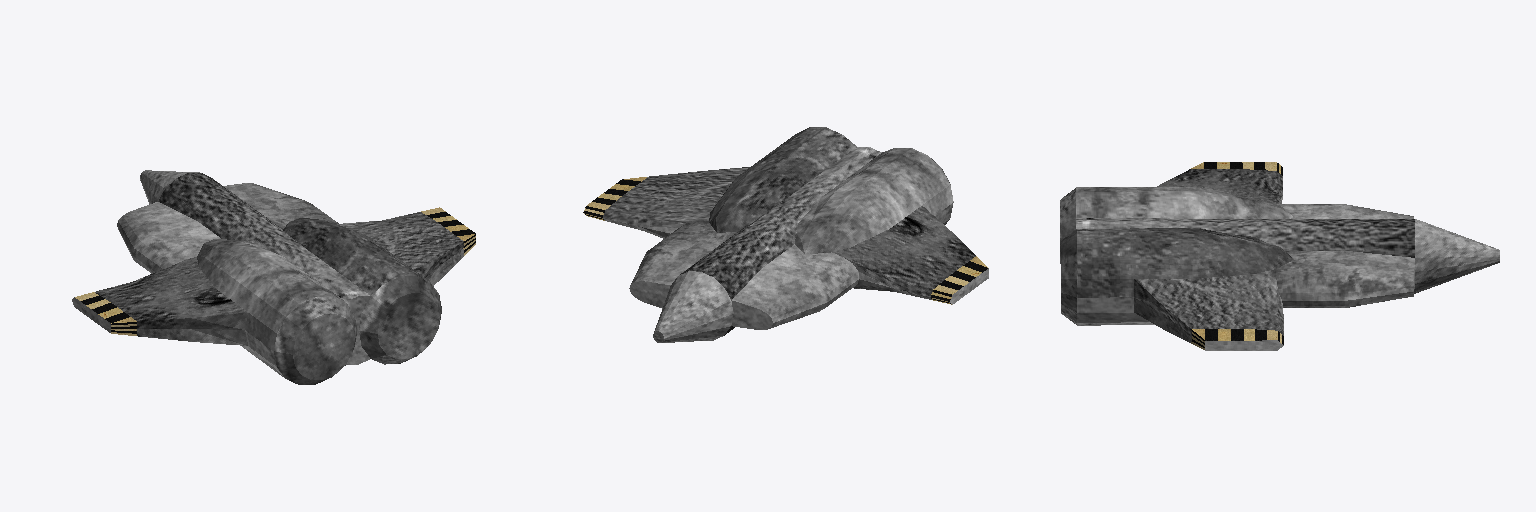
3 renders of one model, left to right at view 1: azimuth 30°, elevation 25°; view 2: azimuth 150°, elevation 25°; view 3: azimuth 270°, elevation 25°, orthographic.
Parts seen in each view (by area): view 1: Cube; view 2: Cube; view 3: Cube.
Boxes of the visible parts, <box> form: Cube: <box>72,170,475,384</box>; Cube: <box>583,127,988,342</box>; Cube: <box>1060,162,1499,350</box>.
Size of the model in its own units: 11.2 by 2.58 by 11.65.
3 materials, 3 textured.